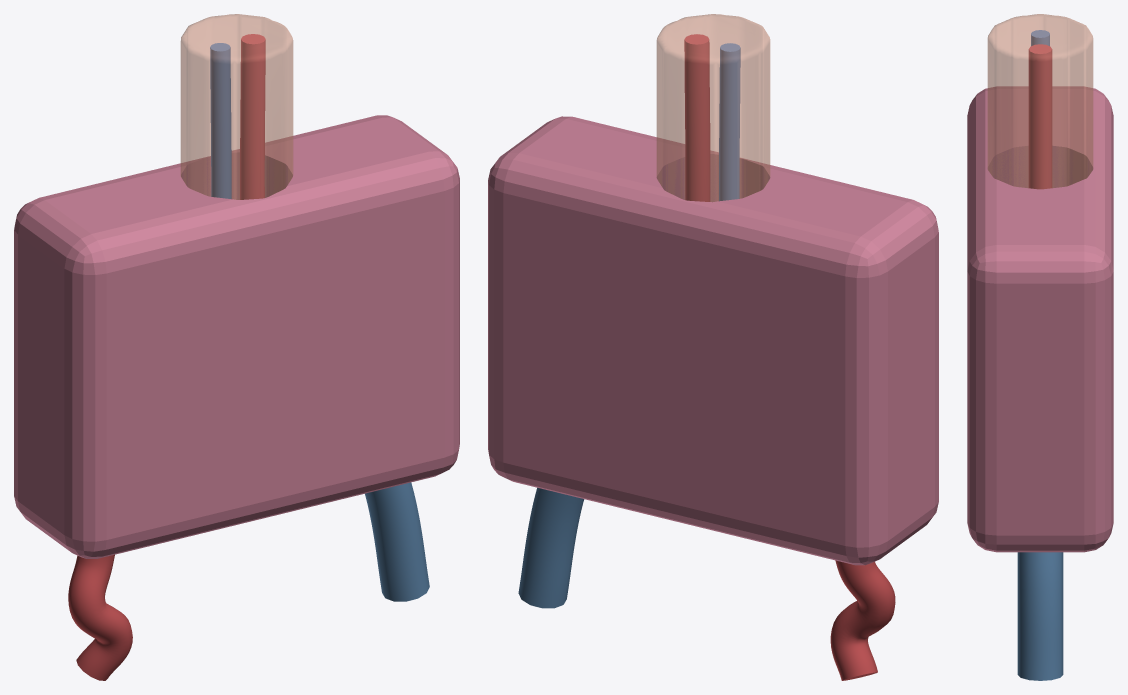
The model's file is placental-exchange.glb.
The picture shows the model from 3 angles, left to right: view 1: azimuth 30°, elevation 25°; view 2: azimuth 150°, elevation 25°; view 3: azimuth 270°, elevation 25°; orthographic projection. The views are drawn at different scales.
Parts seen in each view (by area): view 1: intervillous_space, chorionic_villus, maternal_vein, maternal_spiral_artery, fetal_venule, fetal_arteriole; view 2: intervillous_space, chorionic_villus, maternal_vein, maternal_spiral_artery, fetal_venule, fetal_arteriole; view 3: intervillous_space, chorionic_villus, maternal_vein, fetal_venule, fetal_arteriole.
Part boxes in pixels (x1=…): intervillous_space: x1=14, y1=115, x2=459, y2=558; chorionic_villus: x1=180, y1=14, x2=293, y2=199; maternal_vein: x1=365, y1=482, x2=429, y2=601; maternal_spiral_artery: x1=68, y1=554, x2=132, y2=680; fetal_venule: x1=240, y1=34, x2=265, y2=199; fetal_arteriole: x1=210, y1=43, x2=231, y2=198; intervillous_space: x1=488, y1=116, x2=938, y2=565; chorionic_villus: x1=656, y1=14, x2=770, y2=201; maternal_vein: x1=518, y1=487, x2=584, y2=608; maternal_spiral_artery: x1=830, y1=560, x2=895, y2=680; fetal_venule: x1=684, y1=34, x2=710, y2=201; fetal_arteriole: x1=719, y1=43, x2=740, y2=201; intervillous_space: x1=967, y1=86, x2=1113, y2=552; chorionic_villus: x1=987, y1=14, x2=1093, y2=188; maternal_vein: x1=1017, y1=552, x2=1063, y2=680; fetal_venule: x1=1028, y1=44, x2=1052, y2=189; fetal_arteriole: x1=1031, y1=30, x2=1049, y2=45.
Bounding box in the file's own units: 1.46 × 2.16 × 0.5.
